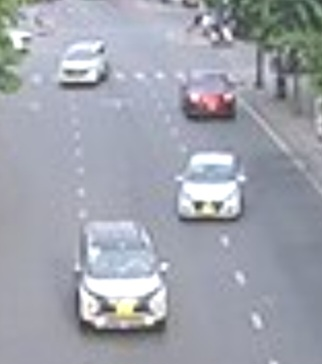car: (75, 220, 168, 330), (176, 146, 247, 223), (183, 69, 238, 121)
